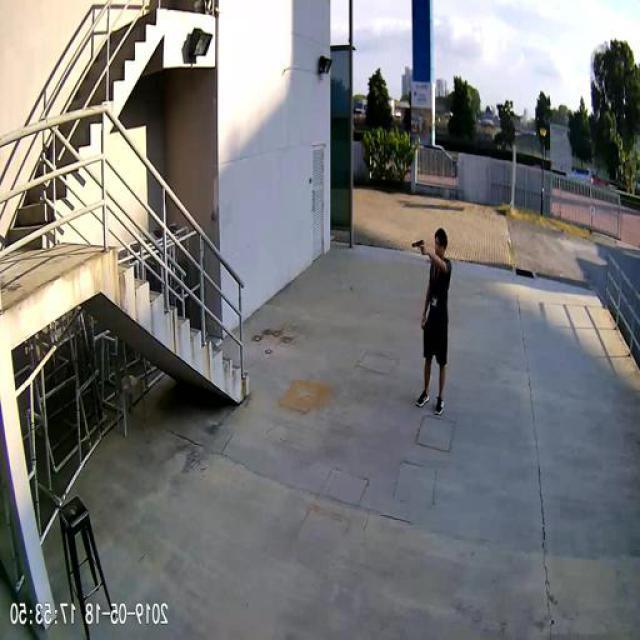Gun: (414, 236, 426, 250)
